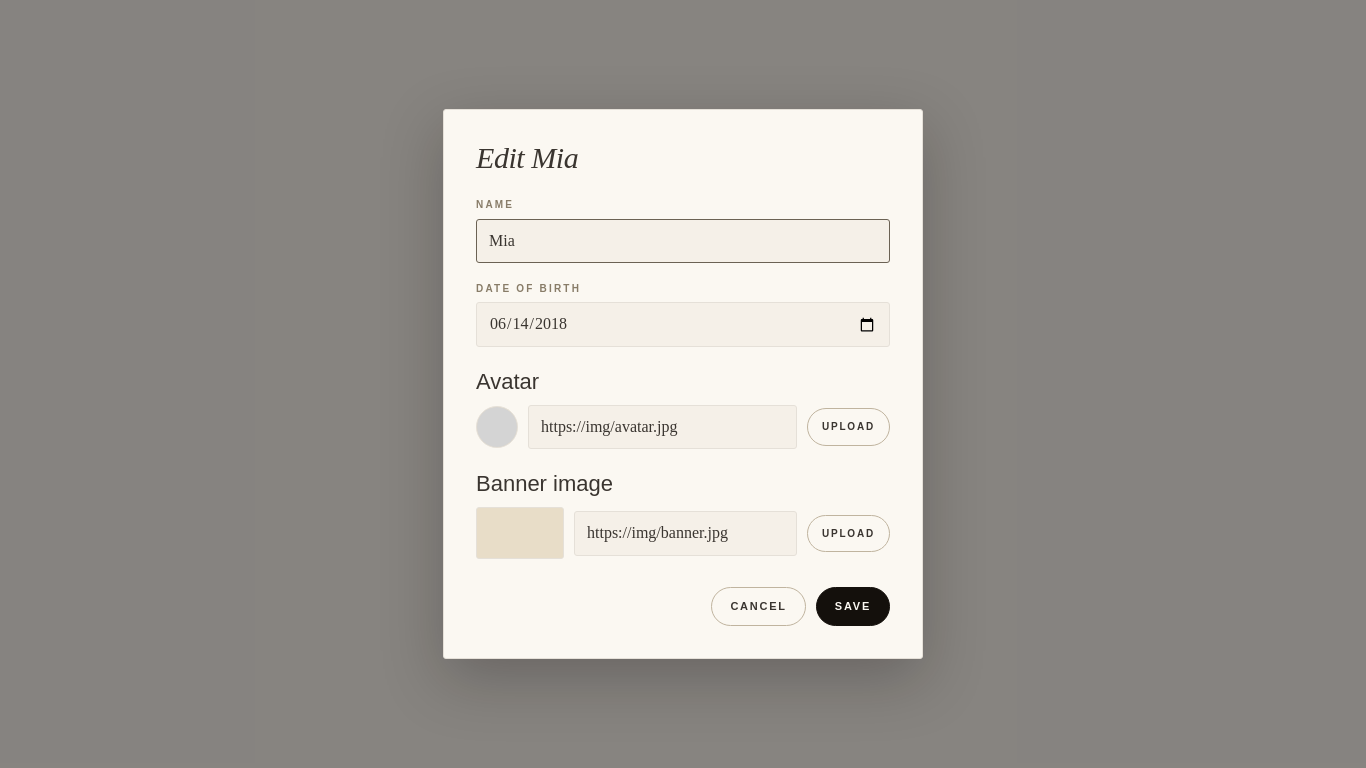
Scenario: EditPersonSheet › blocks save when name is blank
Clear the field labelled "Name": (683, 241) [476,218,890,263]
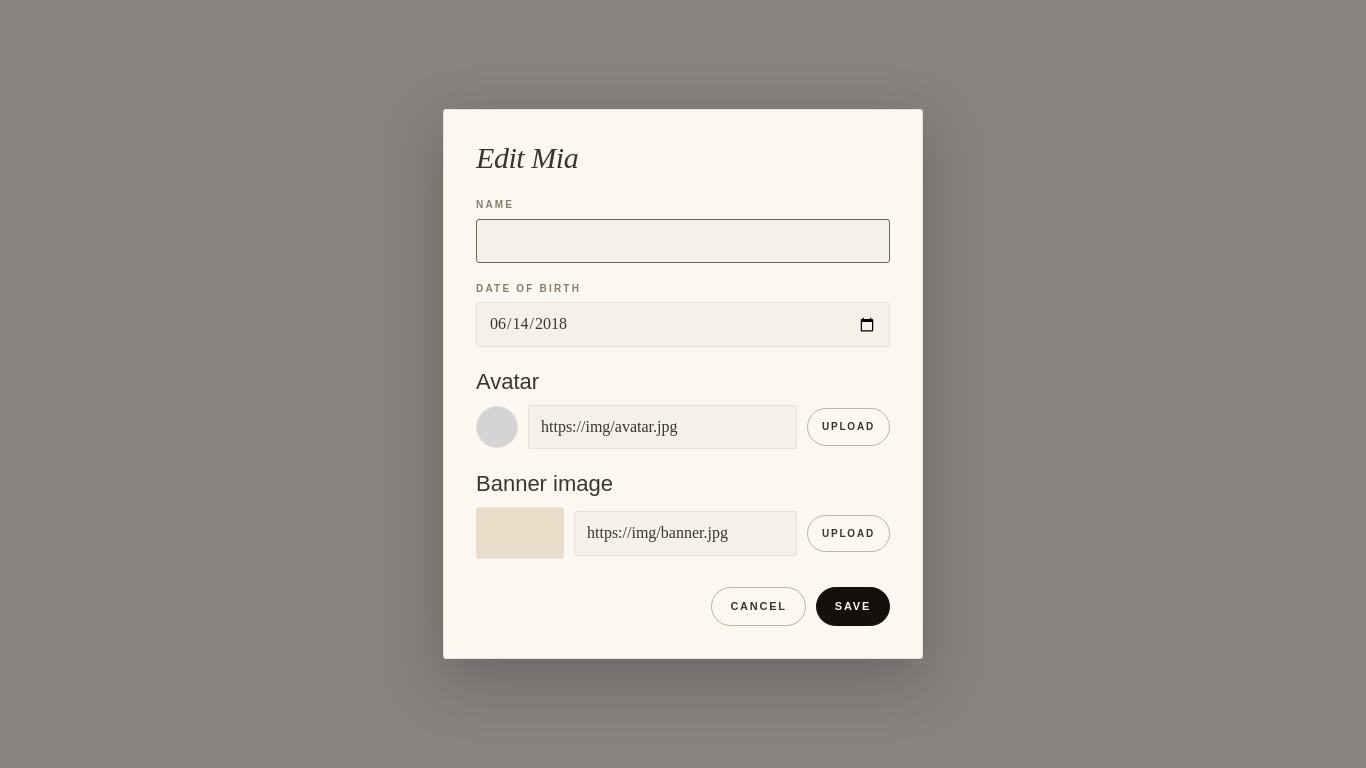
Click the button "Save": (853, 607) [816,587,890,626]
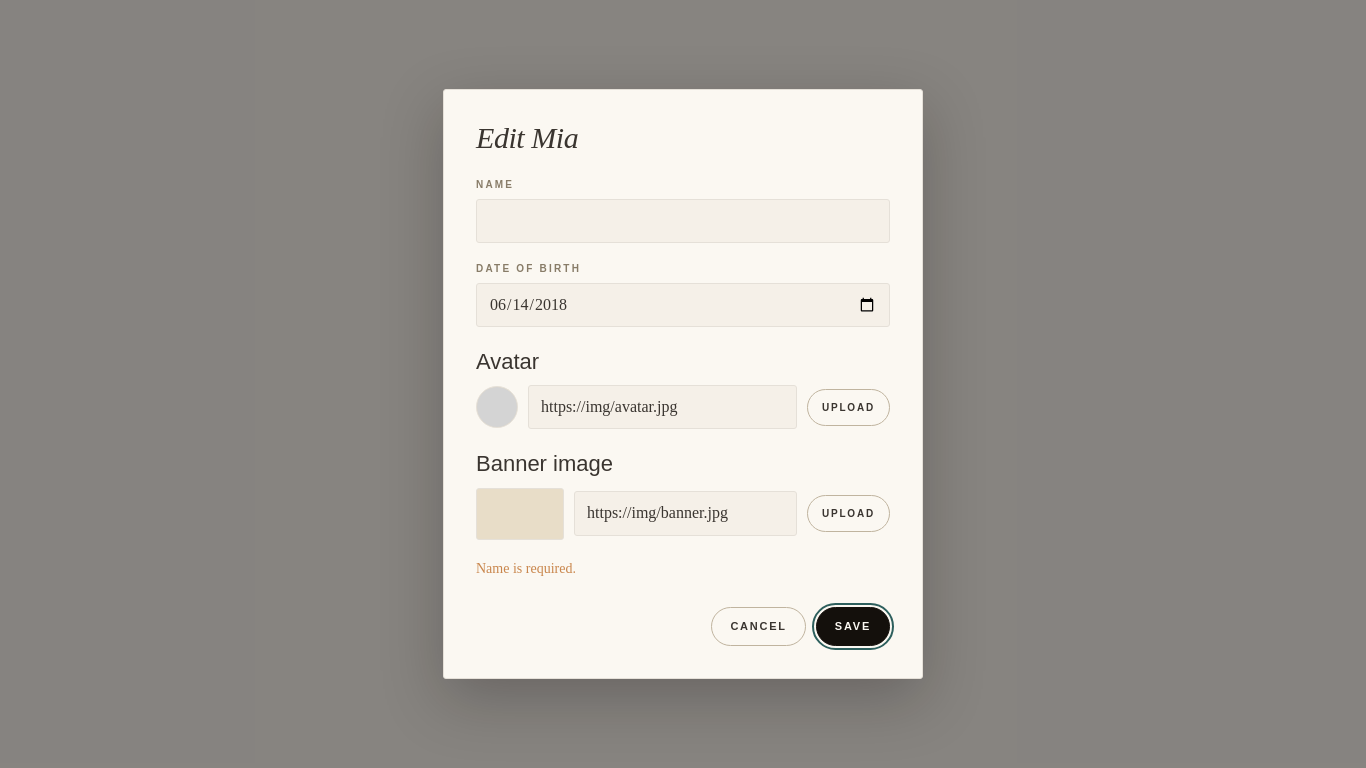
Check: the message shows "Name is required", box [476,561,576,576]
